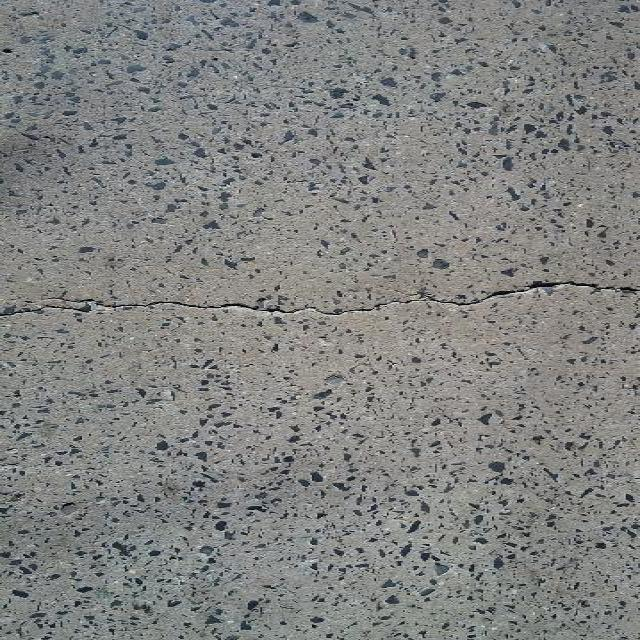Crack: (0, 270, 638, 322)
